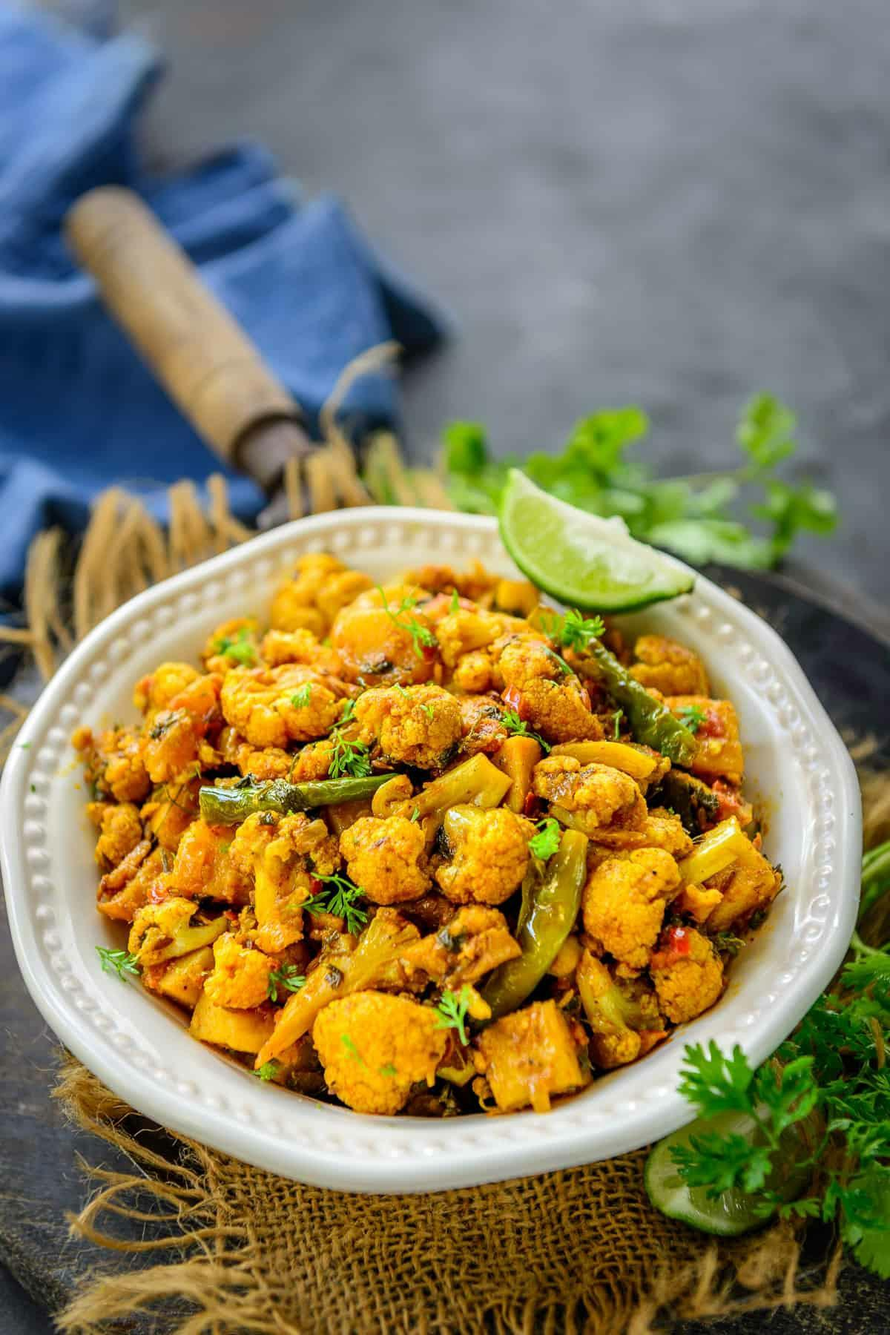AlooGobi: (75, 542, 783, 1117)
